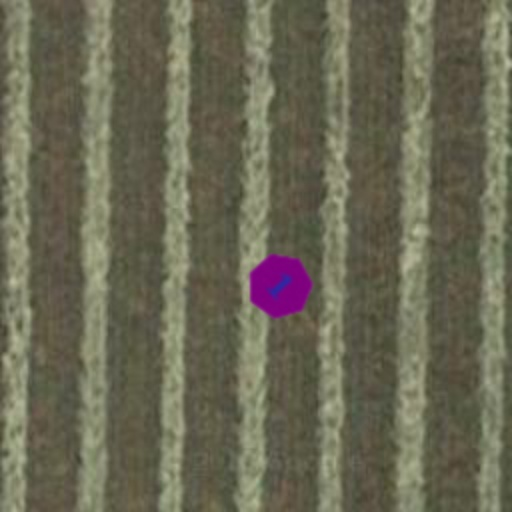heptagon: (232, 238, 328, 334)
